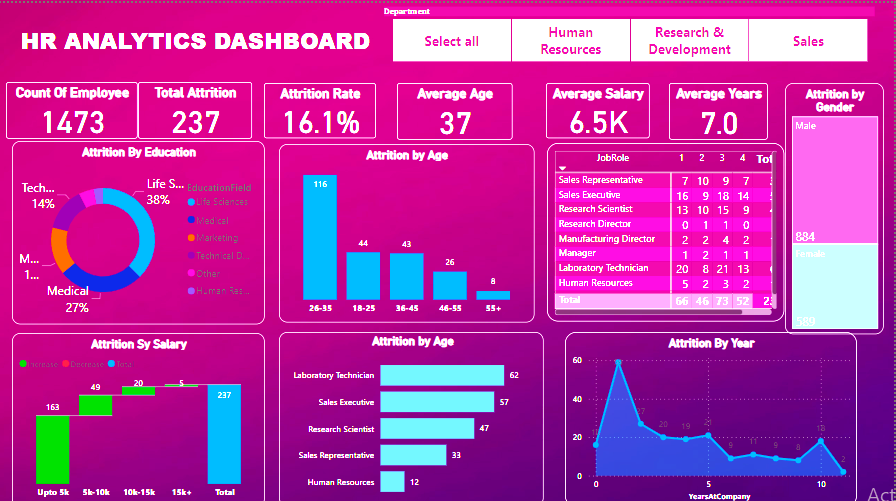

The page's visual inventory and layout, read from the dashboard file:
{"tool":"powerbi","page":{"name":"Page 1","canvas":[1280,720],"ordinal":0},"visuals":[{"type":"card","title":"Count Of Employee","fields":{"Values":["CountNonNull(HR_Analytics.EmpID)"]},"box":[13.4,84,188.1,80.6],"z":0},{"type":"card","title":"Attrition Rate","fields":{"Values":["HR_Analytics.Attrition Rate"]},"box":[381.3,85.7,159.6,79],"z":1000},{"type":"card","title":"Total Attrition","fields":{"Values":["Sum(HR_Analytics.AttritionCount)"]},"box":[201.6,84,162.9,80.6],"z":2000},{"type":"card","title":"Average Age","fields":{"Values":["Avg(HR_Analytics.Age)"]},"box":[571.1,85.7,164.6,80.6],"z":3000},{"type":"card","title":"Average Salary","fields":{"Values":["Avg(HR_Analytics.MonthlyIncome)"]},"box":[784.5,85.7,147.8,79],"z":4000},{"type":"card","title":"Average Years","fields":{"Values":["Avg(HR_Analytics.YearsAtCompany)"]},"box":[960.8,85.7,141.1,80.6],"z":5000},{"type":"donutChart","title":"Attrition By Education","fields":{"Category":["HR_Analytics.EducationField"],"Y":["Sum(HR_Analytics.AttritionCount)"]},"box":[20.2,196.5,361.2,262],"z":6000},{"type":"columnChart","title":"Attrition by Age","fields":{"Y":["Sum(HR_Analytics.AttritionCount)"],"Category":["HR_Analytics.AgeGroup"]},"box":[401.5,201.6,364.5,255.3],"z":7000},{"type":"pivotTable","fields":{"Values":["Sum(HR_Analytics.AttritionCount)"],"Columns":["HR_Analytics.JobSatisfaction"],"Rows":["HR_Analytics.JobRole"]},"box":[784.5,199.9,339.3,255.3],"z":8000},{"type":"waterfallChart","title":"Attrition Sy Salary","fields":{"Category":["HR_Analytics.SalarySlab"],"Y":["Sum(HR_Analytics.AttritionCount)"]},"box":[20.2,472,361.2,248.6],"z":9000},{"type":"barChart","title":"Attrition by Age","fields":{"Category":["HR_Analytics.JobRole"],"Y":["Sum(HR_Analytics.AttritionCount)"]},"box":[401.5,470.3,378,248.6],"z":10000},{"type":"areaChart","title":"Attrition By Year","fields":{"Category":["HR_Analytics.YearsAtCompany"],"Y":["Sum(HR_Analytics.AttritionCount)"]},"box":[809.7,470.3,416.6,250.3],"z":11000},{"type":"treemap","title":"Attrition by Gender","fields":{"Group":["HR_Analytics.Gender"],"Values":["Sum(HR_Analytics.EmployeeCount)"]},"box":[1133.9,85.7,131,359.5],"z":12000},{"type":"textbox","box":[31.9,0,564.4,62.2],"z":13000},{"type":"slicer","fields":{"Values":["HR_Analytics.Department"]},"box":[571.1,0,693.8,84],"z":14000}]}

Visuals, with their boxes in screenshot pixels (x1, y1, x2, y2), scaled from the page's 1280x720 canvas onto the 896x501 screenshot:
"Count Of Employee" card: (x1=9, y1=58, x2=141, y2=115)
"Attrition Rate" card: (x1=267, y1=60, x2=379, y2=115)
"Total Attrition" card: (x1=141, y1=58, x2=255, y2=115)
"Average Age" card: (x1=400, y1=60, x2=515, y2=116)
"Average Salary" card: (x1=549, y1=60, x2=653, y2=115)
"Average Years" card: (x1=673, y1=60, x2=771, y2=116)
"Attrition By Education" donutChart: (x1=14, y1=137, x2=267, y2=319)
"Attrition by Age" columnChart: (x1=281, y1=140, x2=536, y2=318)
pivotTable - Sum(HR_Analytics.AttritionCount) x HR_Analytics.JobSatisfaction: (x1=549, y1=139, x2=787, y2=317)
"Attrition Sy Salary" waterfallChart: (x1=14, y1=328, x2=267, y2=500)
"Attrition by Age" barChart: (x1=281, y1=327, x2=546, y2=500)
"Attrition By Year" areaChart: (x1=567, y1=327, x2=858, y2=500)
"Attrition by Gender" treemap: (x1=794, y1=60, x2=885, y2=310)
textbox: (x1=22, y1=0, x2=417, y2=43)
slicer - HR_Analytics.Department: (x1=400, y1=0, x2=885, y2=58)
